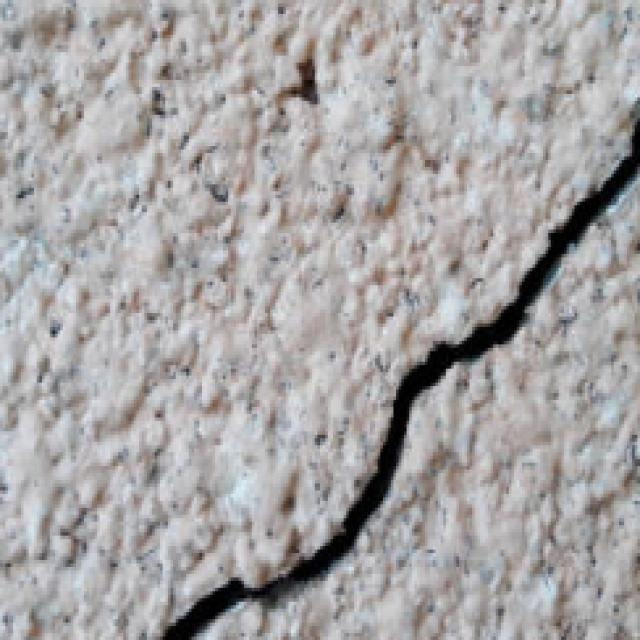diagonal crack: (162, 118, 639, 639)
